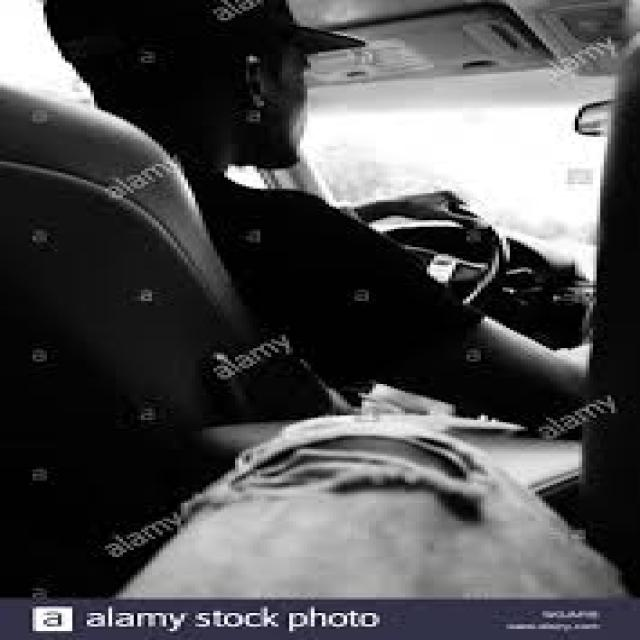cap: (50, 0, 368, 171)
